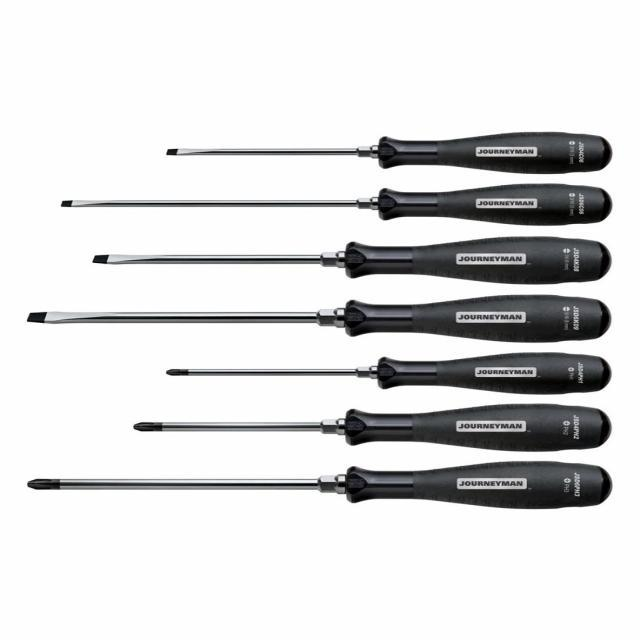screwdriver: (28, 290, 618, 346), (22, 458, 617, 513), (83, 232, 617, 292), (130, 401, 620, 456), (53, 180, 617, 226), (157, 122, 618, 178), (165, 348, 616, 398)
